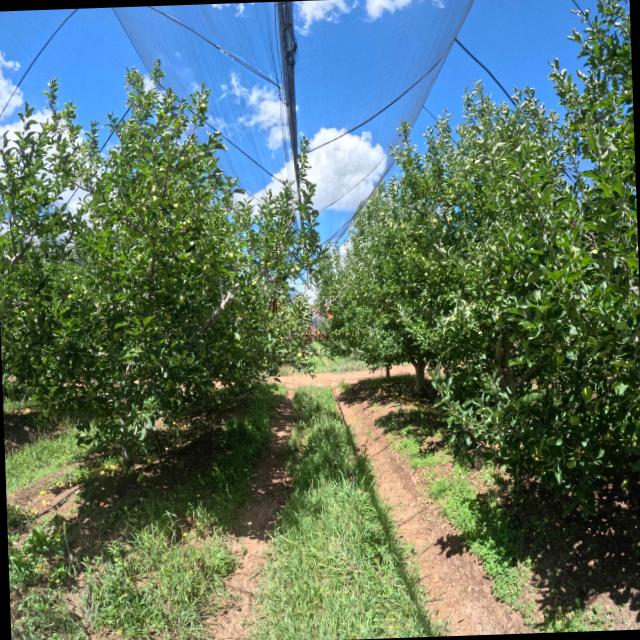-FireBlight-: (302, 322, 330, 342), (268, 296, 280, 312), (307, 306, 320, 320), (325, 312, 334, 322)
